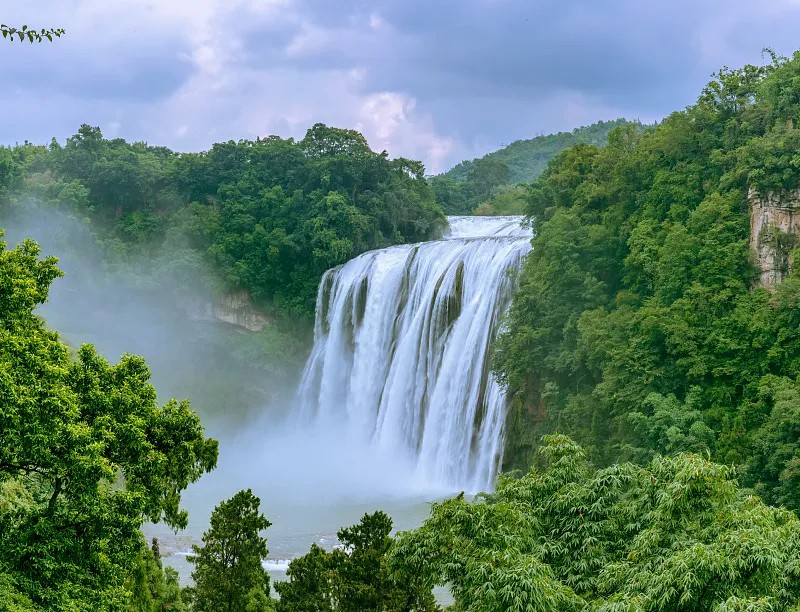Huangguoshu: (297, 214, 535, 490)
